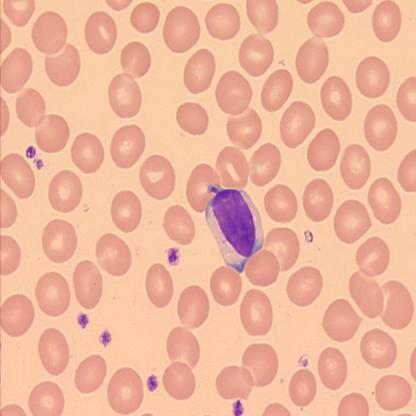Atypical lymphocyte: (202, 179, 267, 275)
